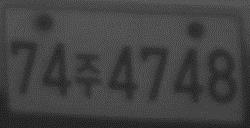4: (108, 44, 139, 103), (43, 41, 73, 98), (174, 48, 204, 103)
7: (139, 46, 169, 101), (10, 39, 38, 97)
8: (207, 48, 239, 105)
주: (74, 53, 101, 100)
